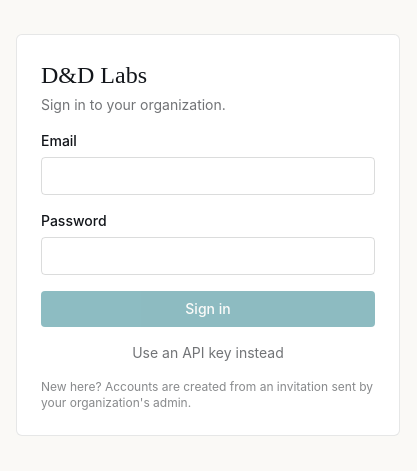
AuthGate › shows the server's message for wrong credentials
This screenshot has width=417, height=471.
Type "ada@acme.example" into the field labelled "Email" at (208,176), box [41,157,375,195]
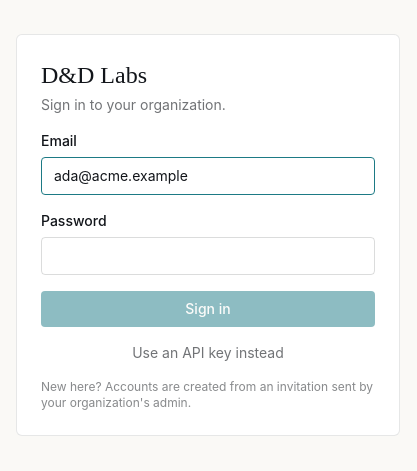
Type "not the password" into the password field labelled "Password" at (208,256), box [41,237,375,275]
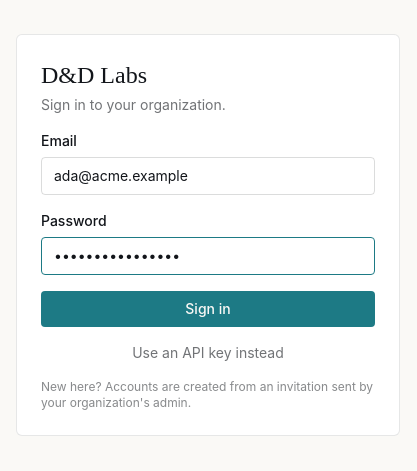
Click the button "Sign in" at (208,309), box [41,291,375,327]
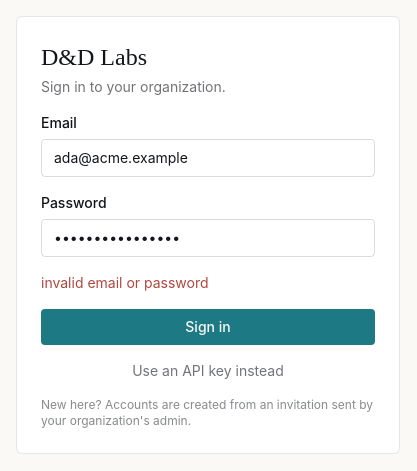
Check: the message reads "invalid email or password", box [41,274,209,291]
